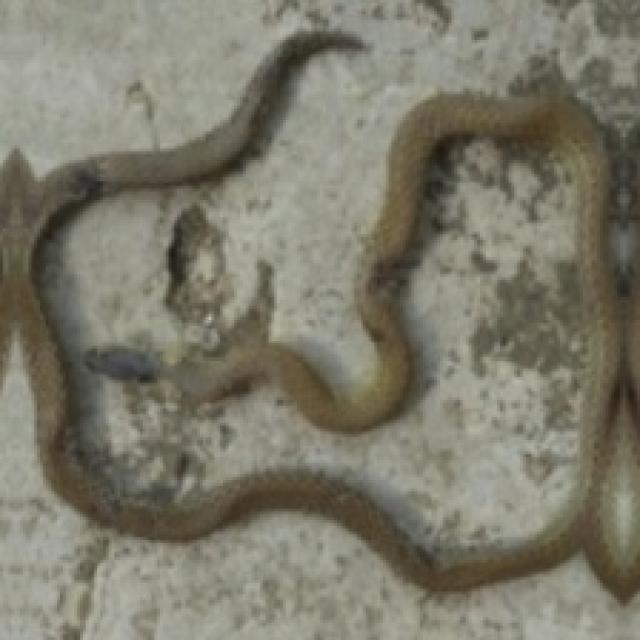gervais worm snake: (0, 35, 640, 597)
